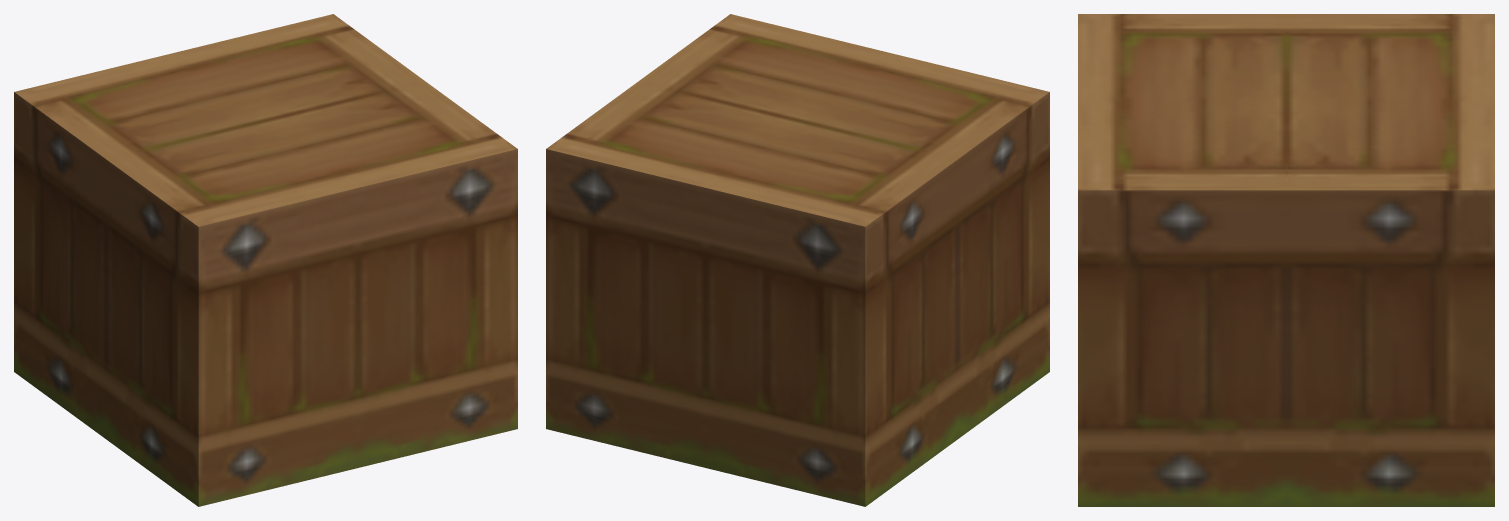
Rendered from scene_lawennushandao_muxiang.FBX.
The picture shows the model from 3 angles, left to right: view 1: azimuth 30°, elevation 25°; view 2: azimuth 150°, elevation 25°; view 3: azimuth 270°, elevation 25°; orthographic projection. The views are drawn at different scales.
Visible parts, largest first — view 1: scene_lawennushandao_muxiang; view 2: scene_lawennushandao_muxiang; view 3: scene_lawennushandao_muxiang.
Part boxes in pixels (x1,y1,x2,y2): scene_lawennushandao_muxiang: (14,14,517,506); scene_lawennushandao_muxiang: (546,14,1049,506); scene_lawennushandao_muxiang: (1078,14,1494,506).
Size of the model in its own units: 96.04 by 80.5 by 96.04.
